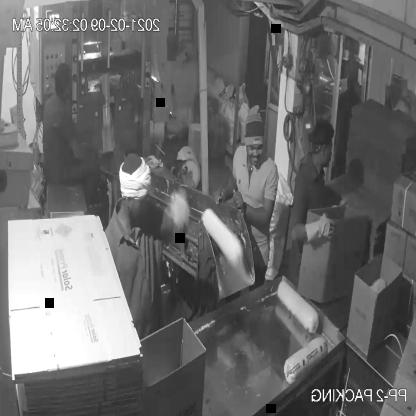glove: (162, 184, 196, 240), (302, 211, 340, 253)
no_glove: (225, 185, 277, 227), (212, 169, 244, 209), (67, 137, 98, 172)
